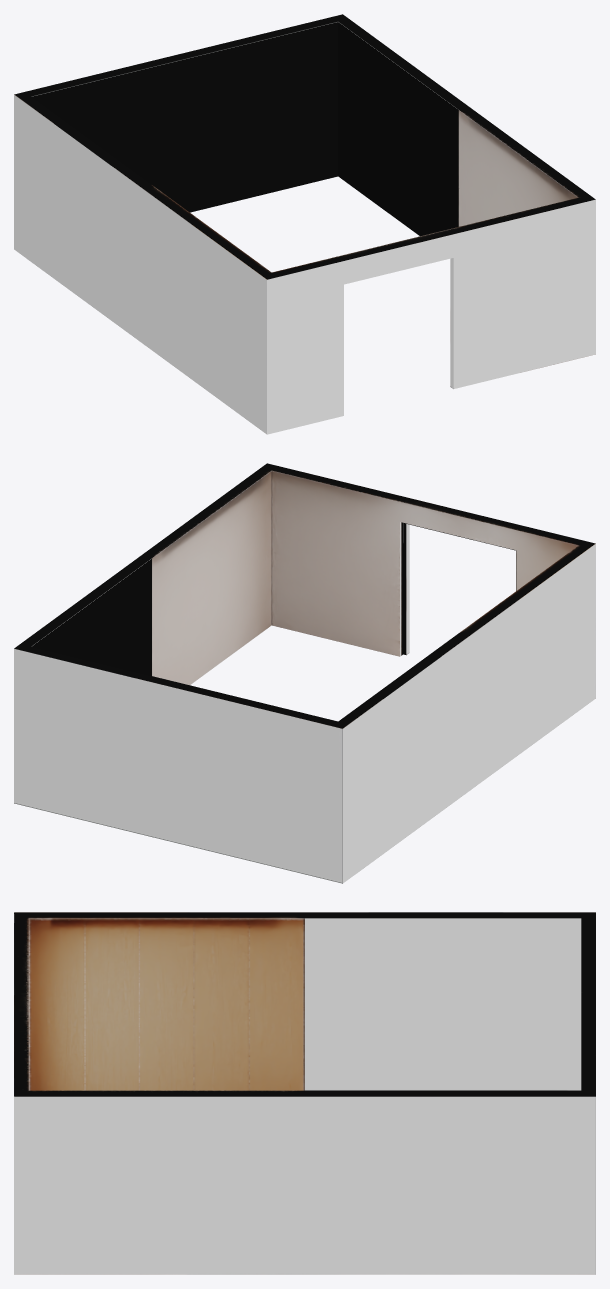
Rendered from Wall.001.gltf.
The picture shows the model from 3 angles, top to bottom: view 1: azimuth 30°, elevation 25°; view 2: azimuth 150°, elevation 25°; view 3: azimuth 270°, elevation 25°; orthographic projection. The views are drawn at different scales.
Visible parts, largest first — view 1: Wall.001; view 2: Wall.001; view 3: Wall.001.
Part boxes in pixels (x1=…): Wall.001: x1=14, y1=14, x2=595, y2=434; Wall.001: x1=14, y1=463, x2=595, y2=883; Wall.001: x1=14, y1=912, x2=595, y2=1274.
Size of the model in its own units: 6 by 2.7 by 8.
Materials: 1 (1 with a texture image).
